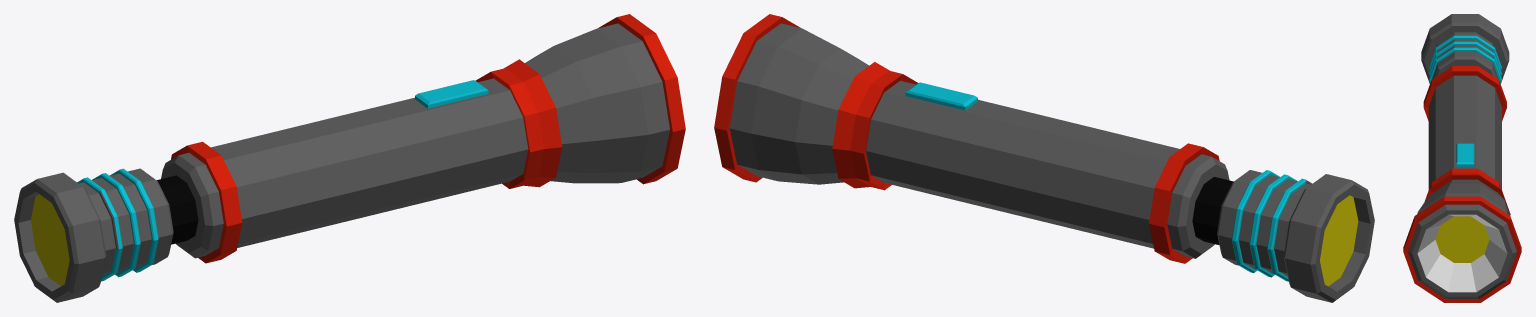
Rendered from lowpoly_flashlight.fbx.
The picture shows the model from 3 angles, left to right: view 1: azimuth 30°, elevation 25°; view 2: azimuth 150°, elevation 25°; view 3: azimuth 270°, elevation 25°; orthographic projection. The views are drawn at different scales.
Parts seen in each view (by area): view 1: Cylinder; view 2: Cylinder; view 3: Cylinder.
Boxes of the visible parts, bbox=[...] form: Cylinder: bbox=[14, 14, 685, 302]; Cylinder: bbox=[714, 14, 1374, 302]; Cylinder: bbox=[1403, 14, 1521, 302].
Bounding box in the file's own units: 1092 × 256 × 270.
